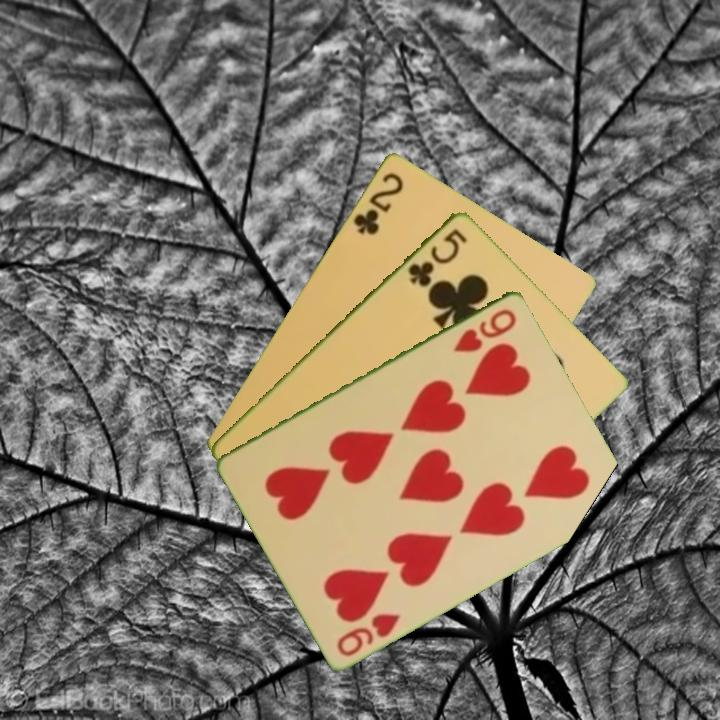2c: (349, 168, 406, 238)
5c: (404, 224, 470, 290)
9h: (449, 304, 520, 355), (333, 609, 404, 659)
